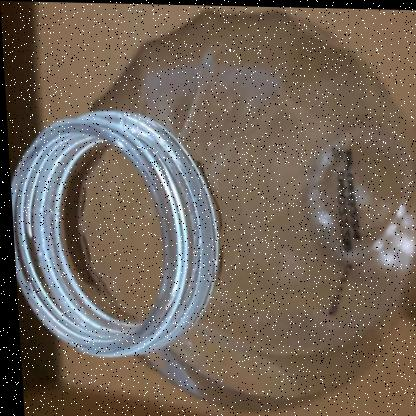open bottle: (1, 11, 400, 416)
